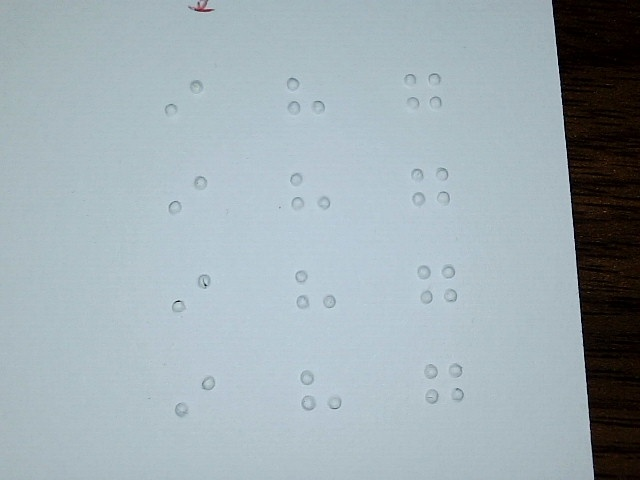G: (402, 62, 446, 135), (408, 155, 452, 228), (416, 252, 460, 325), (422, 351, 466, 424)
H: (283, 65, 327, 138), (288, 160, 332, 233), (293, 258, 337, 331), (298, 359, 342, 432)
I: (162, 68, 206, 141), (166, 163, 210, 236), (173, 364, 217, 437)
